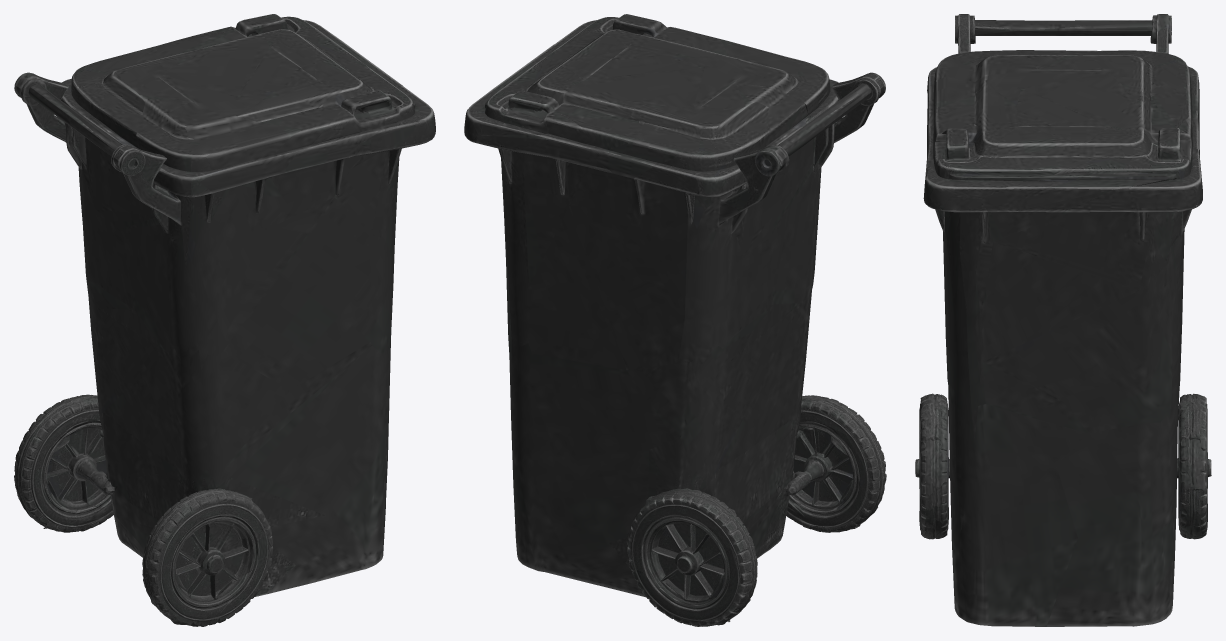
The model's file is prop_wheelie.glb.
3 views of the same model, side by side, from view 1: azimuth 30°, elevation 25°; view 2: azimuth 150°, elevation 25°; view 3: azimuth 270°, elevation 25° (orthographic).
Parts seen in each view (by area): view 1: Mesh_0; view 2: Mesh_0; view 3: Mesh_0.
Boxes of the visible parts, box(x1,y1,x2,y2) form: Mesh_0: box(14, 14, 435, 626); Mesh_0: box(464, 14, 886, 626); Mesh_0: box(915, 14, 1211, 626).
Size of the model in its own units: 1.28 by 1.9 by 1.05.
1 material, 1 textured.
